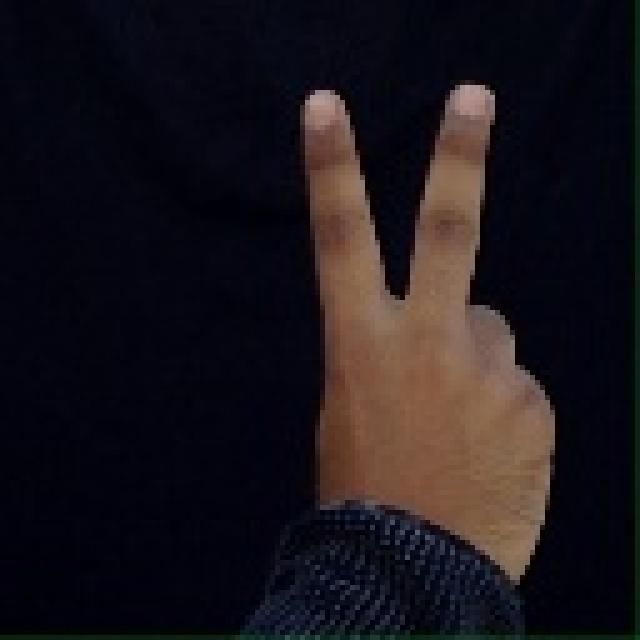Alphabet-V: (262, 35, 578, 606)
